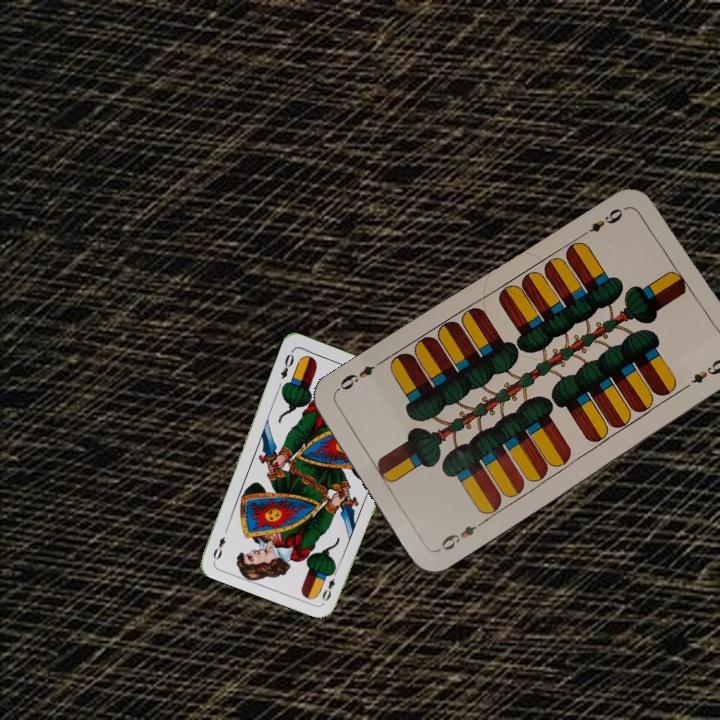E9: (434, 517, 487, 553), (577, 204, 626, 239)
EO: (318, 565, 341, 604), (277, 346, 297, 382)
